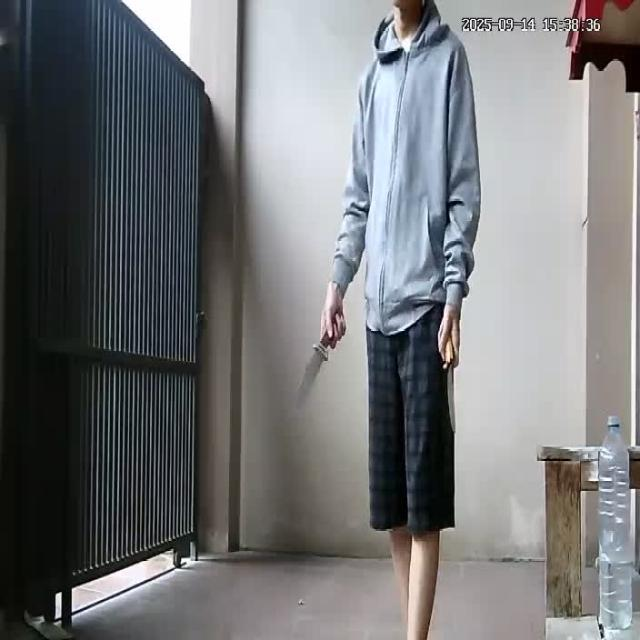senjata_tajam: (292, 340, 330, 412), (444, 356, 460, 439)
